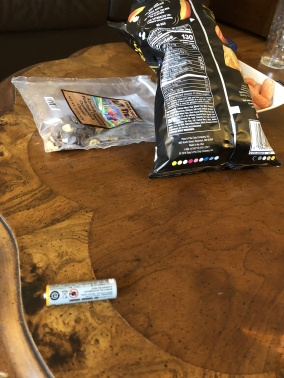battery: (39, 277, 121, 307)
